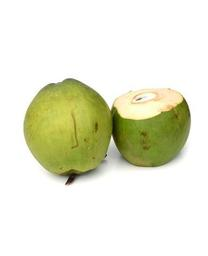coconut: (23, 77, 112, 177), (112, 88, 191, 168)
